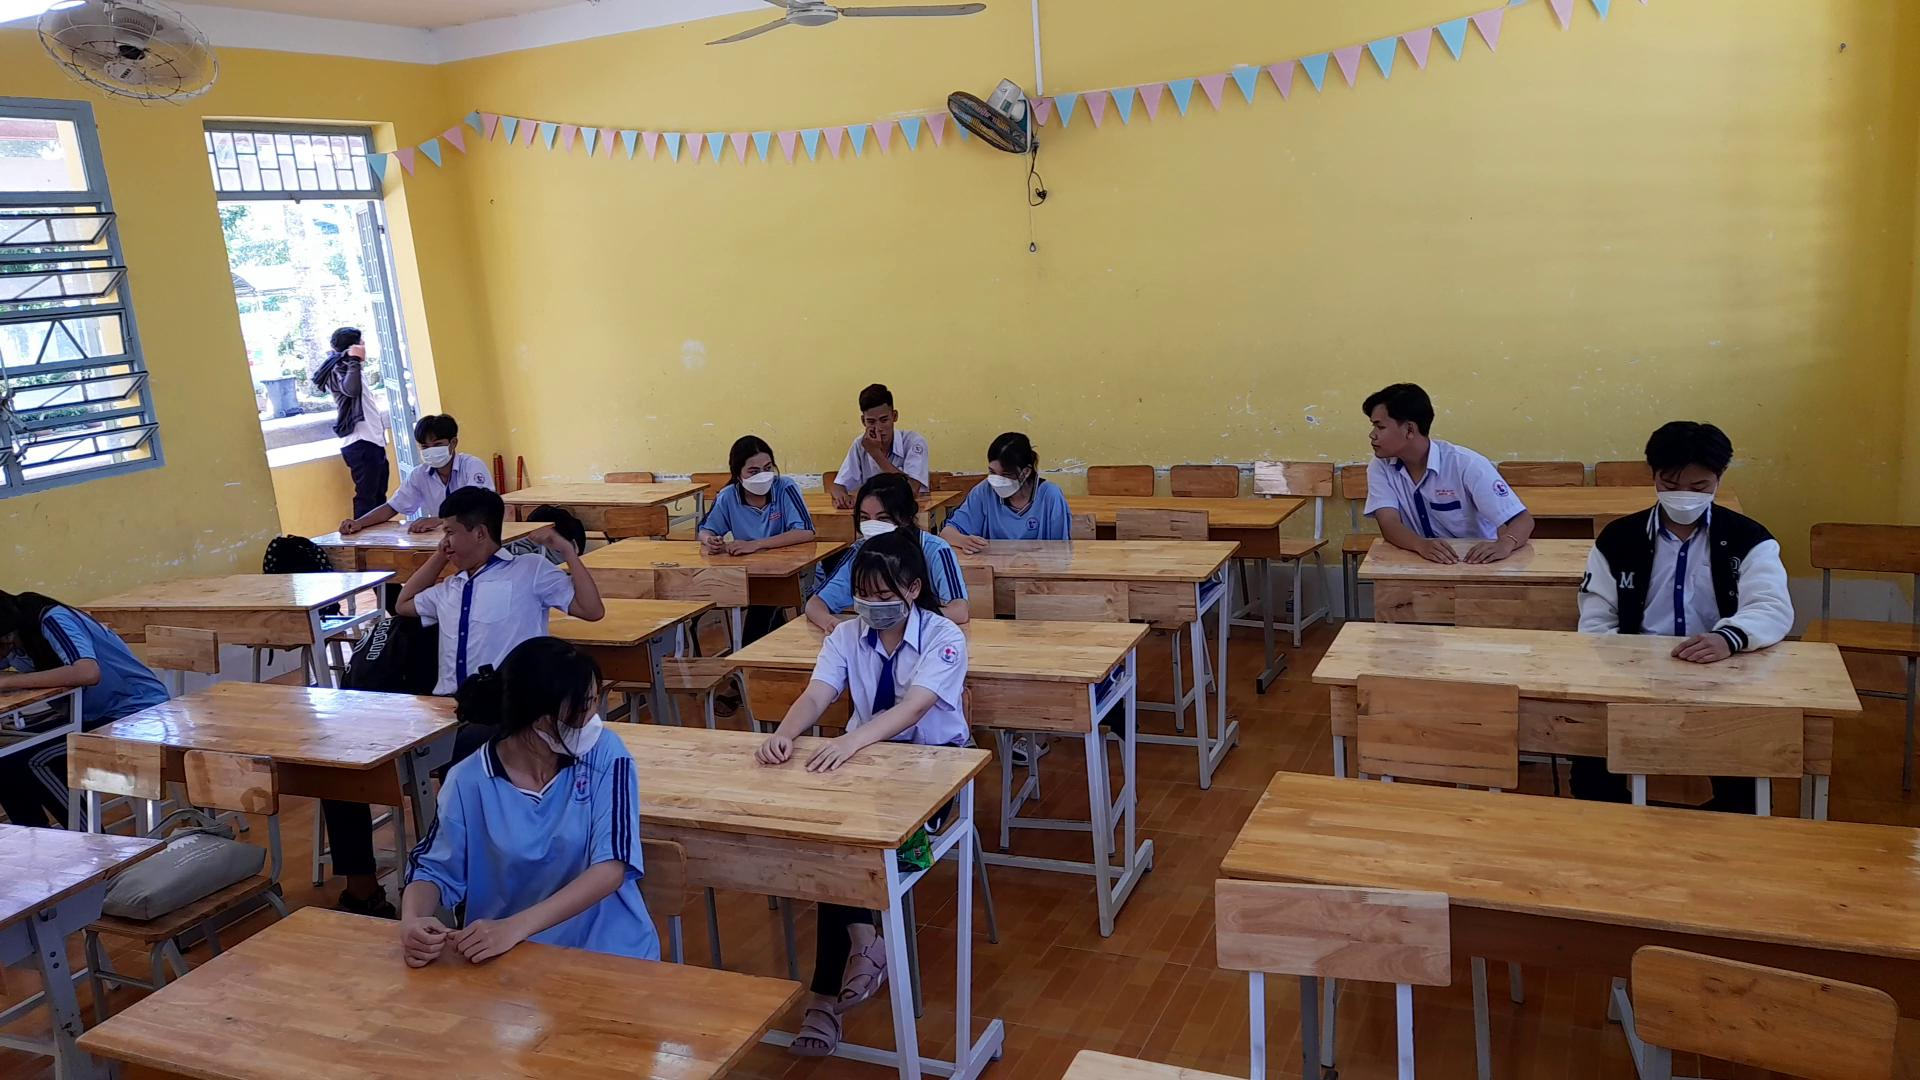Bend Over The Desk: (1634, 404, 1735, 531)
Hand Under Table: (1567, 506, 1635, 651), (1036, 473, 1077, 554)
Look Around: (444, 626, 607, 767), (1346, 367, 1440, 473), (717, 422, 793, 506)
Normal: (742, 520, 971, 770), (392, 393, 485, 492)
